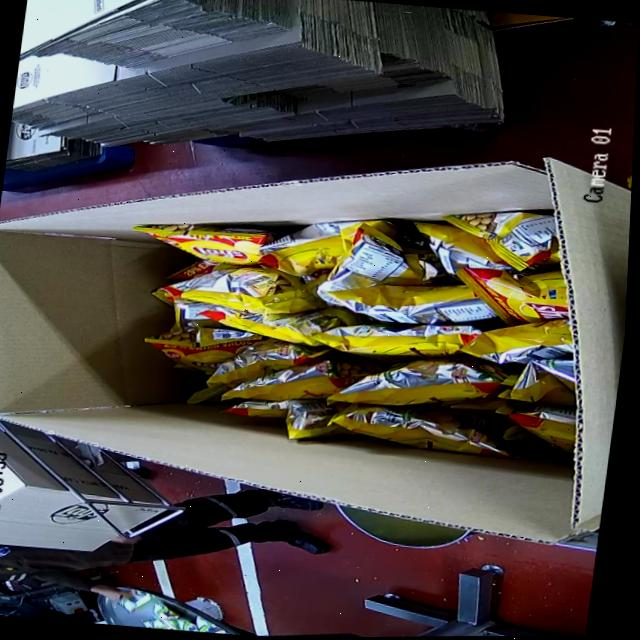SALTED: (102, 168, 578, 470)
